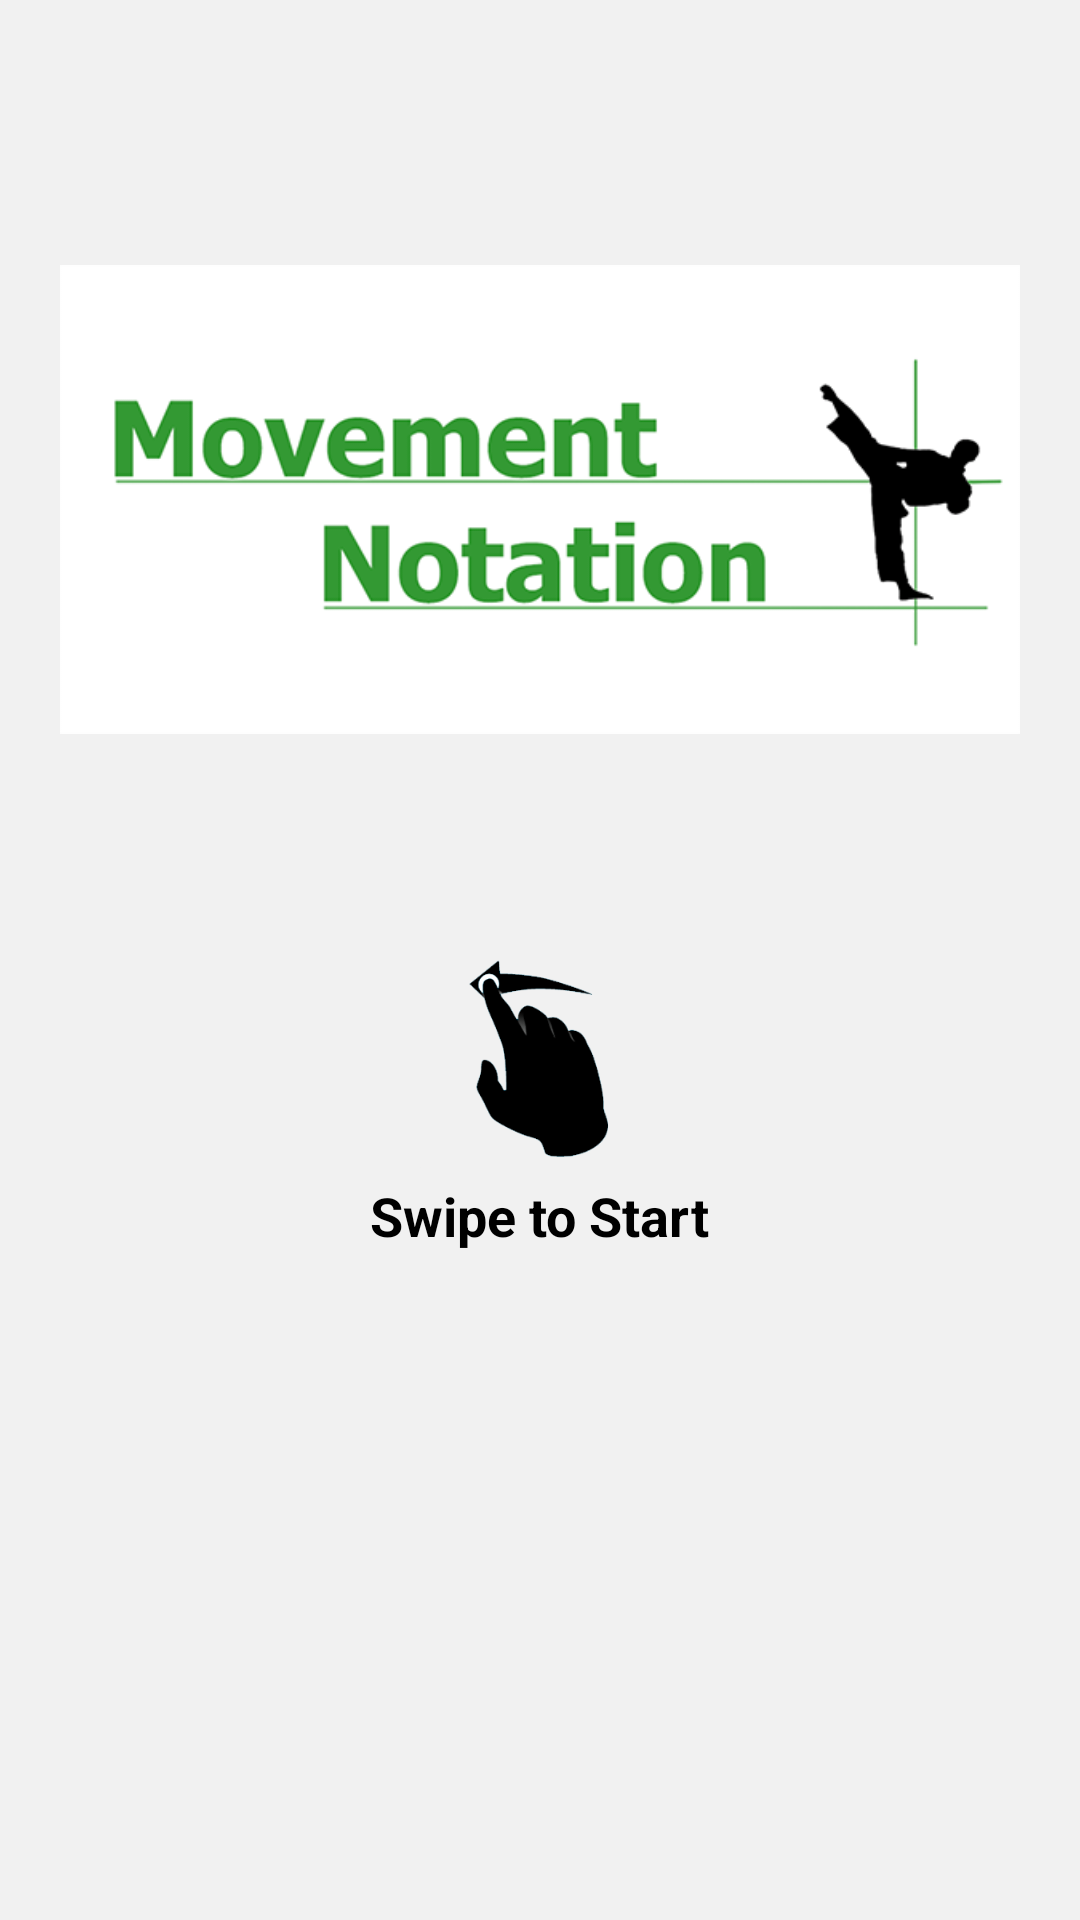

Icons on this 1080*1920 Android screen, each with the point to tap as [x,y]:
swipe left: [538,1059]
